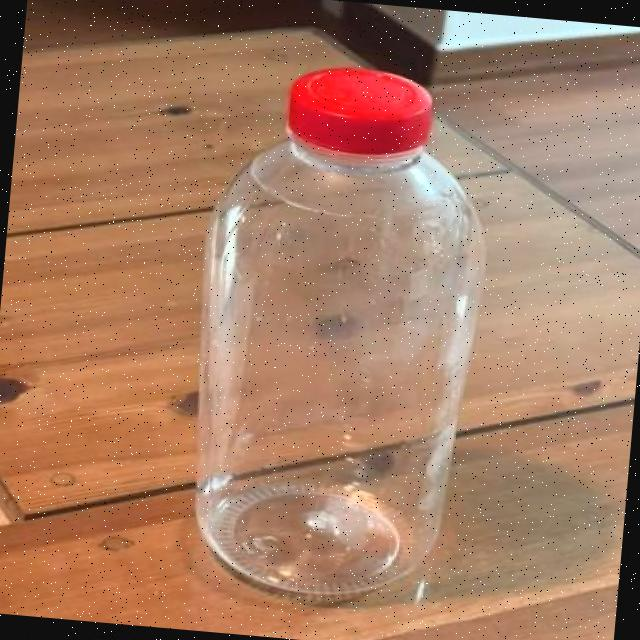bottle: (150, 6, 508, 640)
cap: (279, 62, 436, 166)
